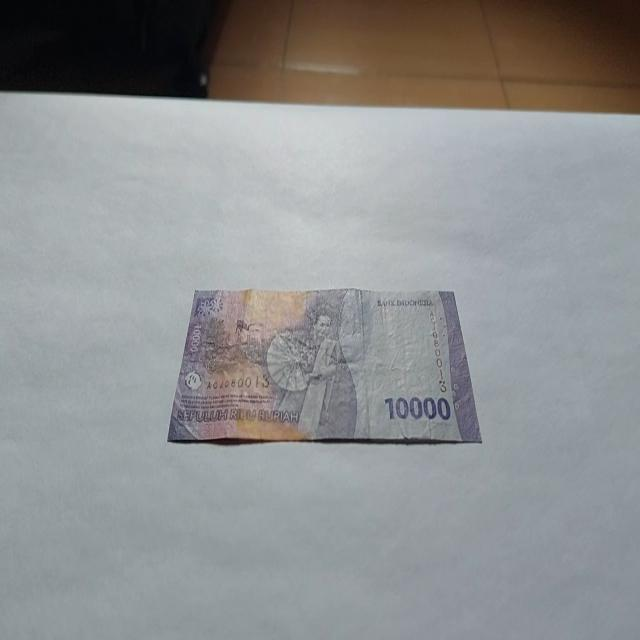sepuluh ribu rupiah: (167, 286, 482, 447)
